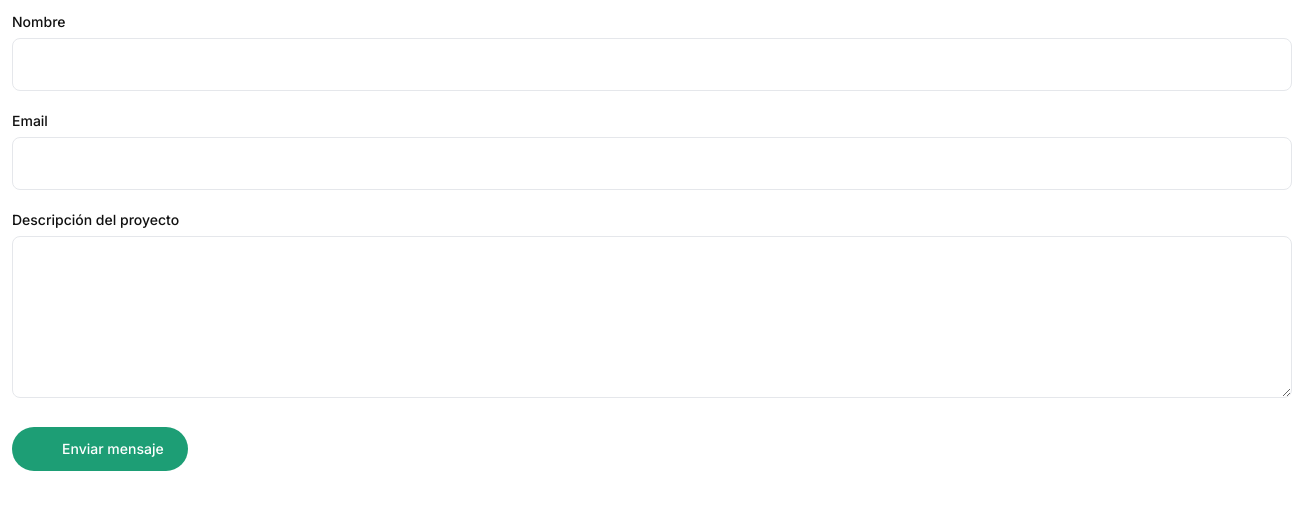
Test: ContactForm › validates the email format
Type "Ana" into the field labelled "Nombre" at (652, 65), box [12, 38, 1292, 91]
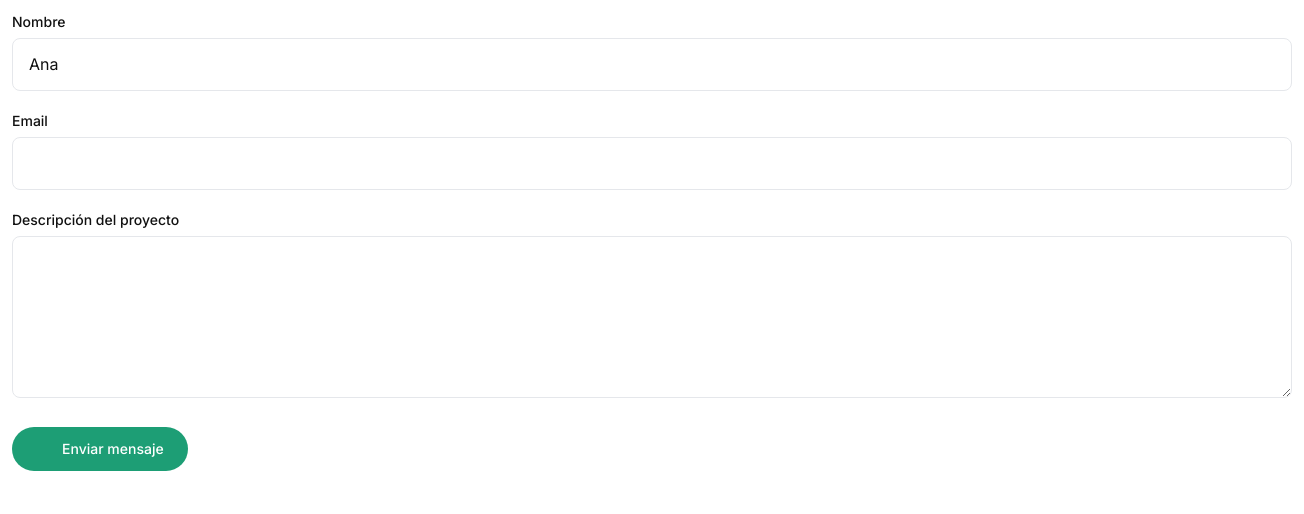
Type "not-an-email" into the field labelled "Email" at (652, 164), box [12, 137, 1292, 190]
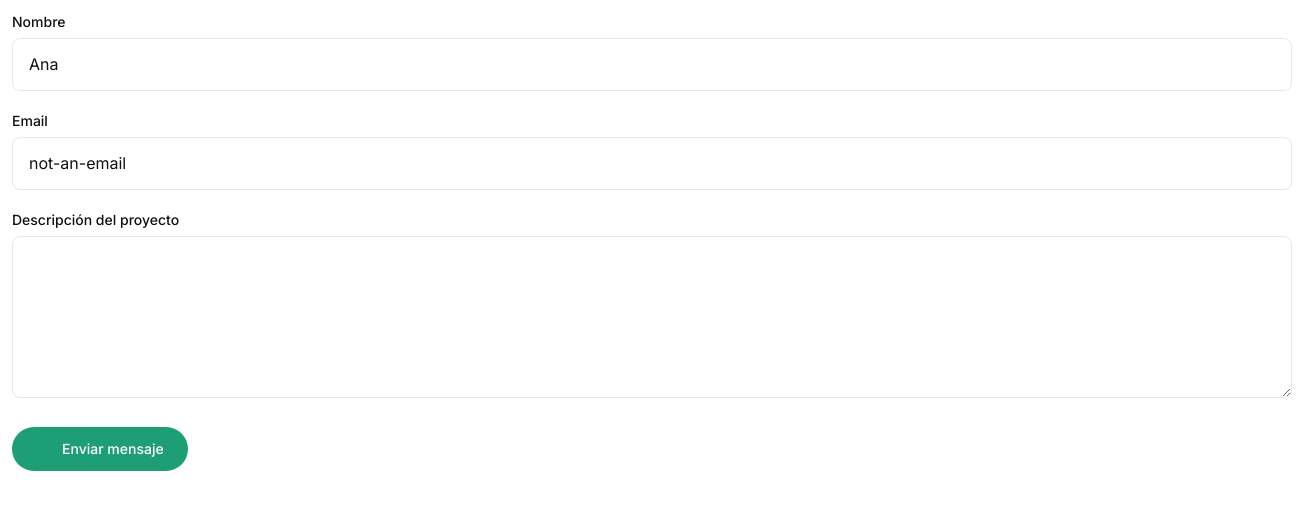
Type "Hola" into the text box labelled "Descripción del proyecto" at (652, 317), box [12, 236, 1292, 398]
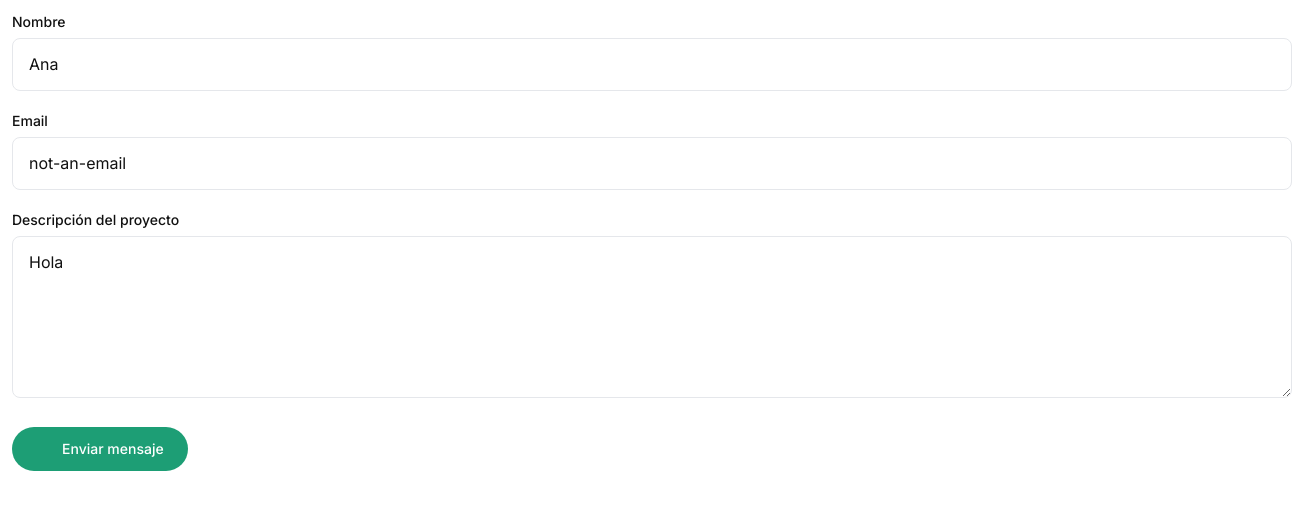
Click the button "Enviar mensaje" at (100, 448), box [12, 426, 188, 470]
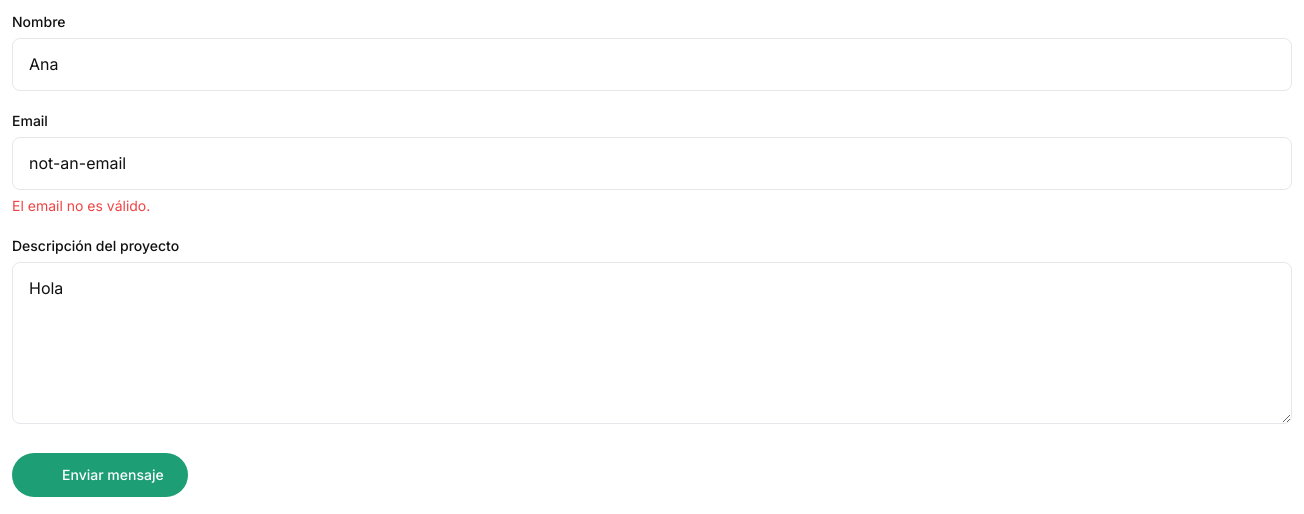
Expected: the text "El email no es válido." is shown, [12, 197, 150, 214]
